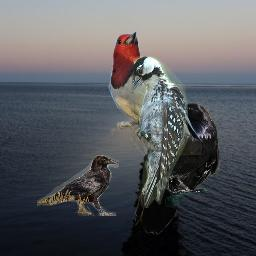Crow: (135, 103, 220, 235), (37, 155, 119, 216)
Woodpecker: (105, 25, 208, 155), (131, 56, 188, 208)
